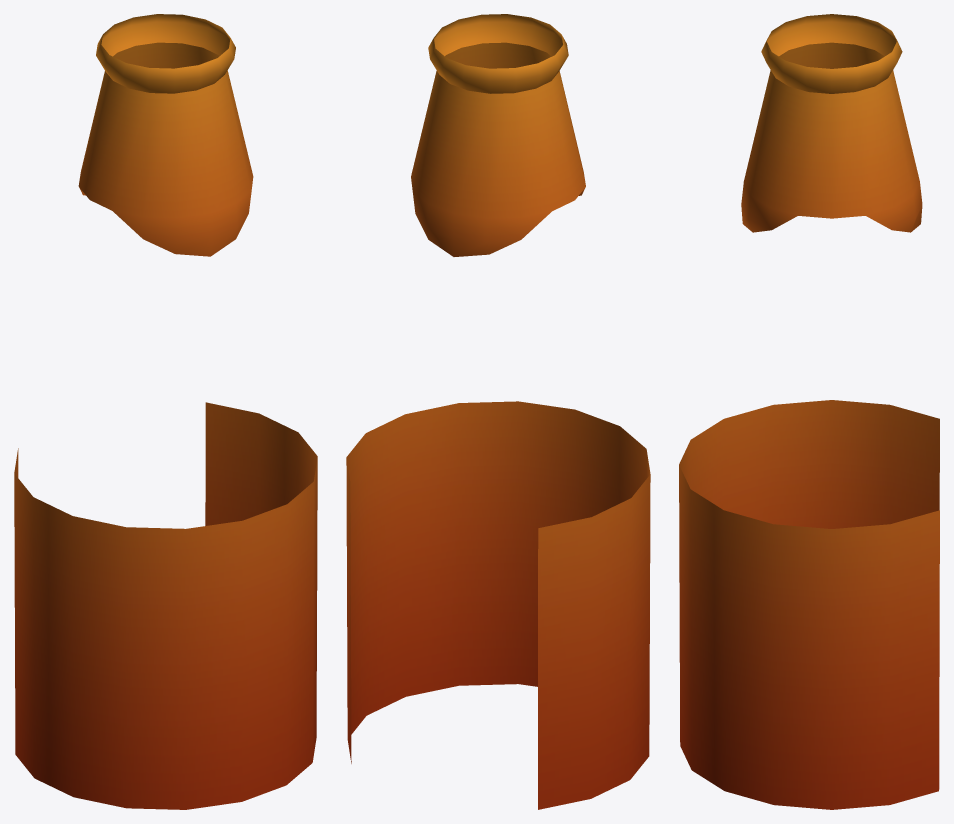
Rendered from Bottle_Reg_Label_01.fbx.
3 views of the same model, side by side, from view 1: azimuth 30°, elevation 25°; view 2: azimuth 150°, elevation 25°; view 3: azimuth 270°, elevation 25° (orthographic).
Visible parts, largest first — view 1: Bottle_Reg_Label_01; view 2: Bottle_Reg_Label_01; view 3: Bottle_Reg_Label_01.
Part boxes in pixels (x1,y1,x2,y2): Bottle_Reg_Label_01: [14, 14, 317, 809]; Bottle_Reg_Label_01: [346, 14, 650, 809]; Bottle_Reg_Label_01: [679, 14, 939, 809].
Bounding box in the file's own units: 36.3 × 92.28 × 30.99.
